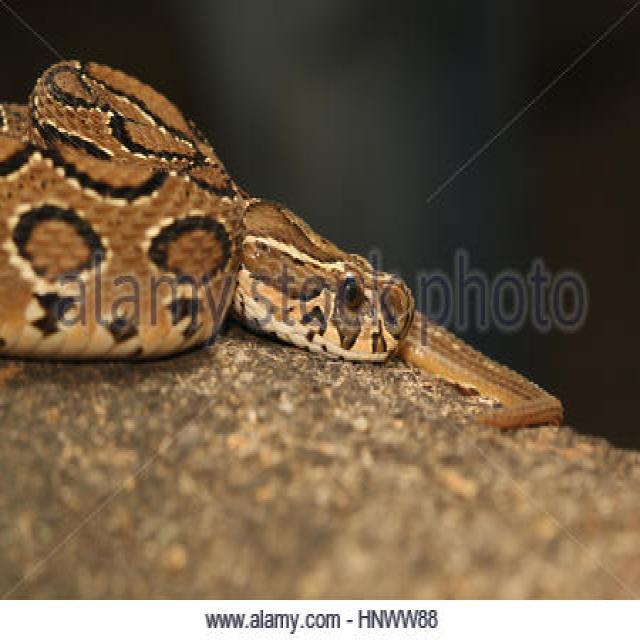Snake: (0, 53, 569, 438)
